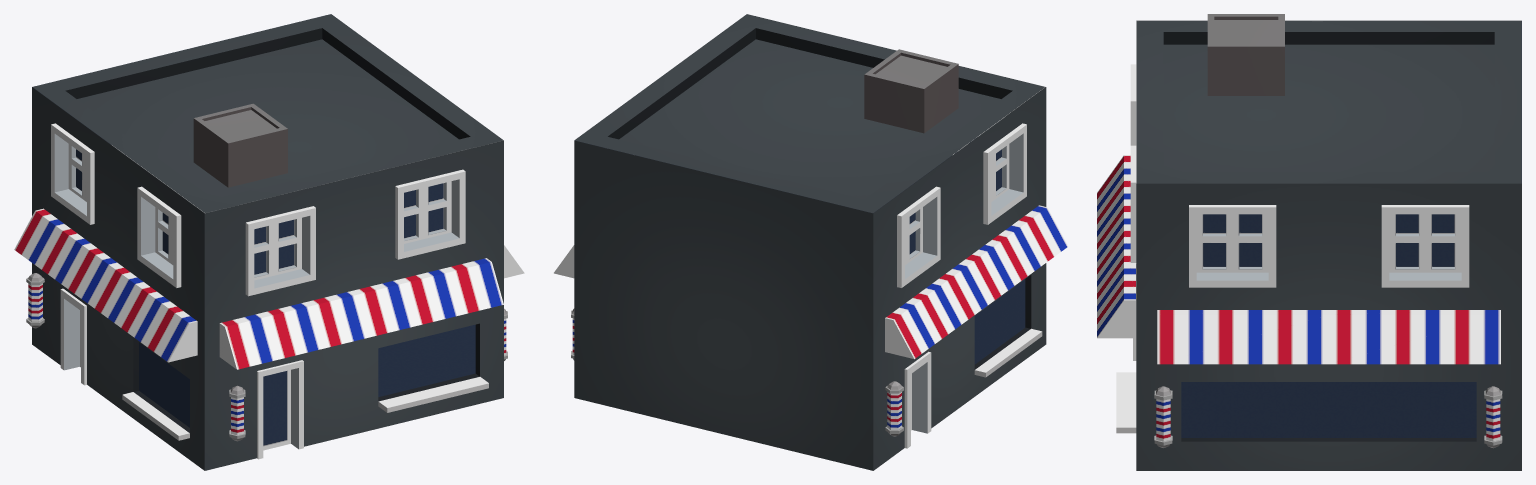
Rendered from House_3Face_UV_Color.fbx.
3 views of the same model, side by side, from view 1: azimuth 30°, elevation 25°; view 2: azimuth 150°, elevation 25°; view 3: azimuth 270°, elevation 25° (orthographic). The views are drawn at different scales.
Parts seen in each view (by area): view 1: House_3Face_UV_Color; view 2: House_3Face_UV_Color; view 3: House_3Face_UV_Color.
Boxes of the visible parts, x1,y1,x2,y2 form: House_3Face_UV_Color: (14, 14, 524, 470); House_3Face_UV_Color: (554, 14, 1068, 470); House_3Face_UV_Color: (1097, 14, 1521, 470).
Size of the model in its own units: 1323 by 1024 by 1216.
